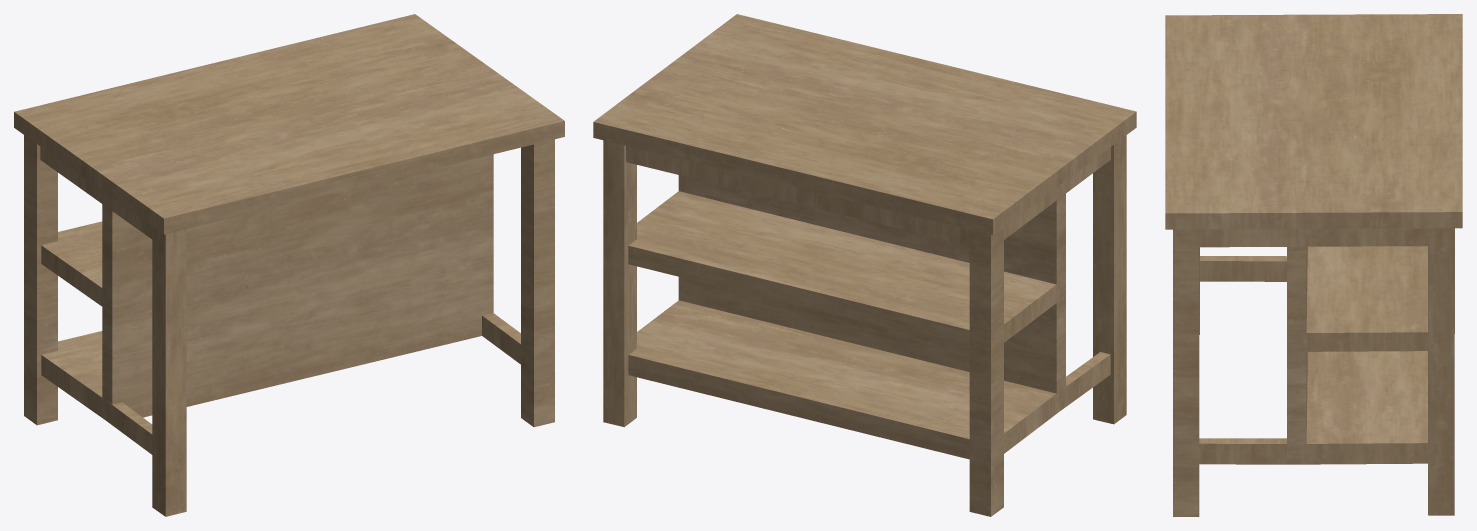
File: frl_apartment_table_02.glb
The picture shows the model from 3 angles, left to right: view 1: azimuth 30°, elevation 25°; view 2: azimuth 150°, elevation 25°; view 3: azimuth 270°, elevation 25°; orthographic projection.
Visible parts, largest first — view 1: frl_apartment_table_02; view 2: frl_apartment_table_02; view 3: frl_apartment_table_02.
Boxes of the visible parts, x1,y1,x2,y2 form: frl_apartment_table_02: (14, 14, 564, 516); frl_apartment_table_02: (593, 14, 1136, 516); frl_apartment_table_02: (1165, 14, 1462, 516).
Size of the model in its own units: 1.28 by 0.9179 by 0.8078.
Materials: 1 (1 with a texture image).
